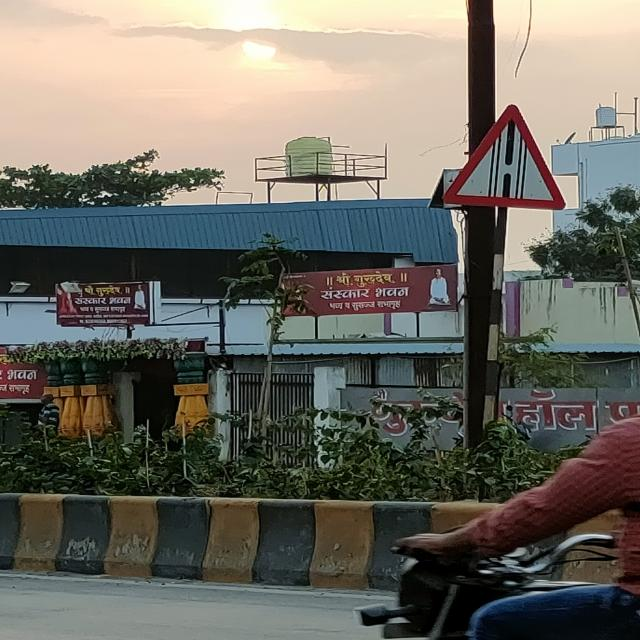ferry: (444, 105, 565, 208)
